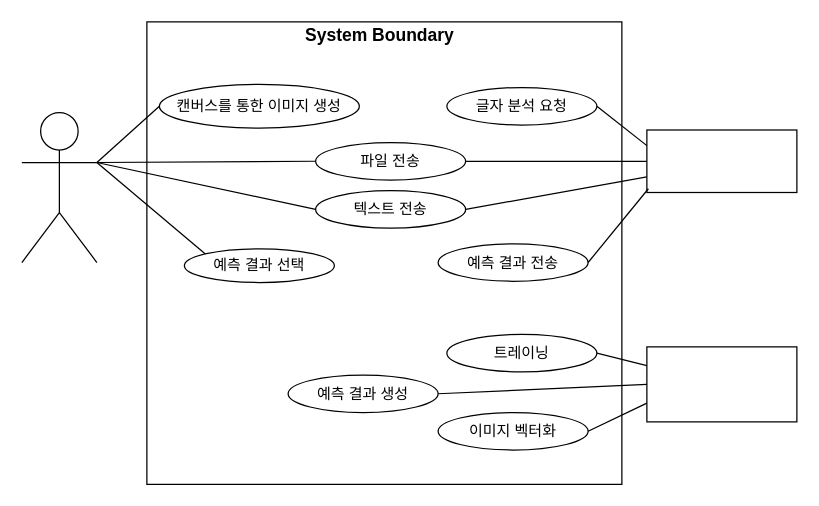
This 819x506 diagram has some shape labels left out. Here are the shapes that lost their labels. From the top down, the centre of each, then its label:
the point at 721,160: 서버
the point at 59,186: 사용자
the point at 721,384: 딥러닝 모델
